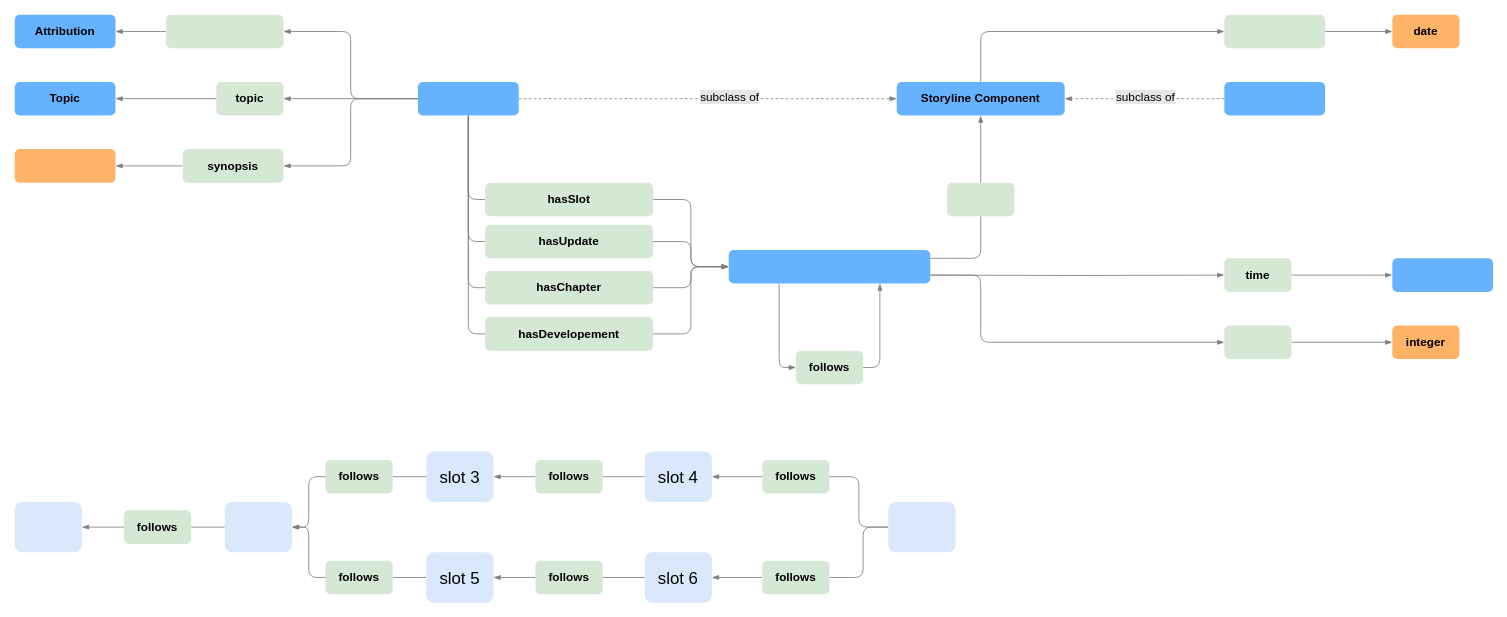
Image size: 1507x617. Some labels were removed from this diagram. Each missing label, with the box of its shape:
attributedTo: (165, 14, 283, 48)
contains: (947, 182, 1014, 216)
dateCreated: (1224, 14, 1325, 48)
Event: (1224, 81, 1325, 115)
index: (1224, 325, 1291, 359)
Literal: (14, 149, 115, 182)
slot 1: (14, 501, 81, 552)
slot 2: (224, 501, 291, 552)
slot n: (888, 501, 955, 552)
Storyline: (417, 81, 518, 115)
Storyline Slot: (728, 249, 930, 283)
Temporal Unit: (1392, 258, 1493, 291)
